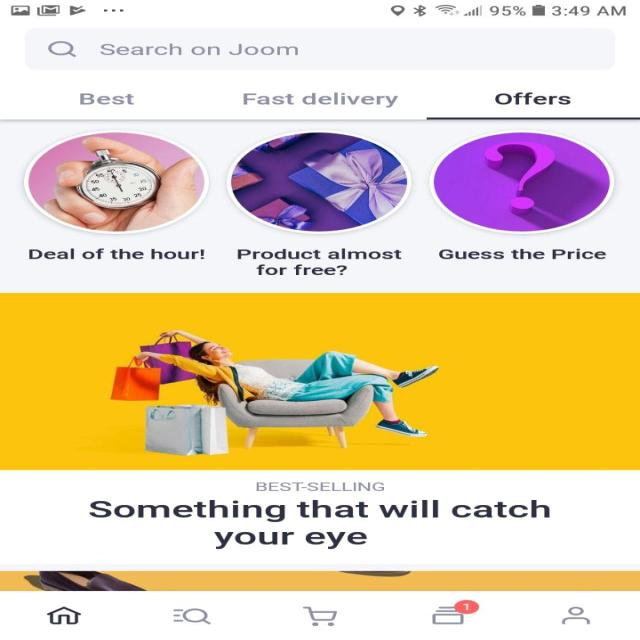EditText: (25, 27, 615, 70)
Icon: (431, 599, 479, 625), (301, 606, 337, 626), (46, 606, 82, 625), (172, 608, 212, 624), (560, 605, 590, 624), (47, 40, 77, 57)
Image: (0, 292, 639, 470), (428, 130, 616, 234), (24, 129, 210, 234), (226, 130, 412, 234), (0, 570, 639, 590)
Text: (88, 499, 550, 549), (236, 247, 402, 275), (100, 43, 298, 56), (243, 92, 398, 108), (28, 248, 205, 260), (438, 248, 606, 259), (255, 481, 384, 491), (494, 92, 571, 105), (79, 93, 134, 105)
